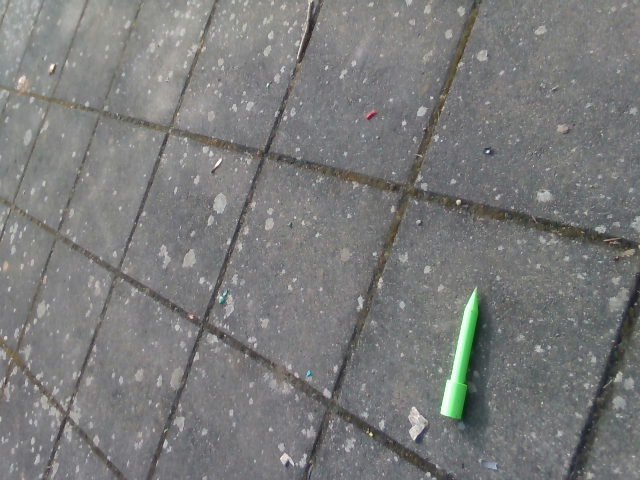Probe: (436, 277, 485, 431)
